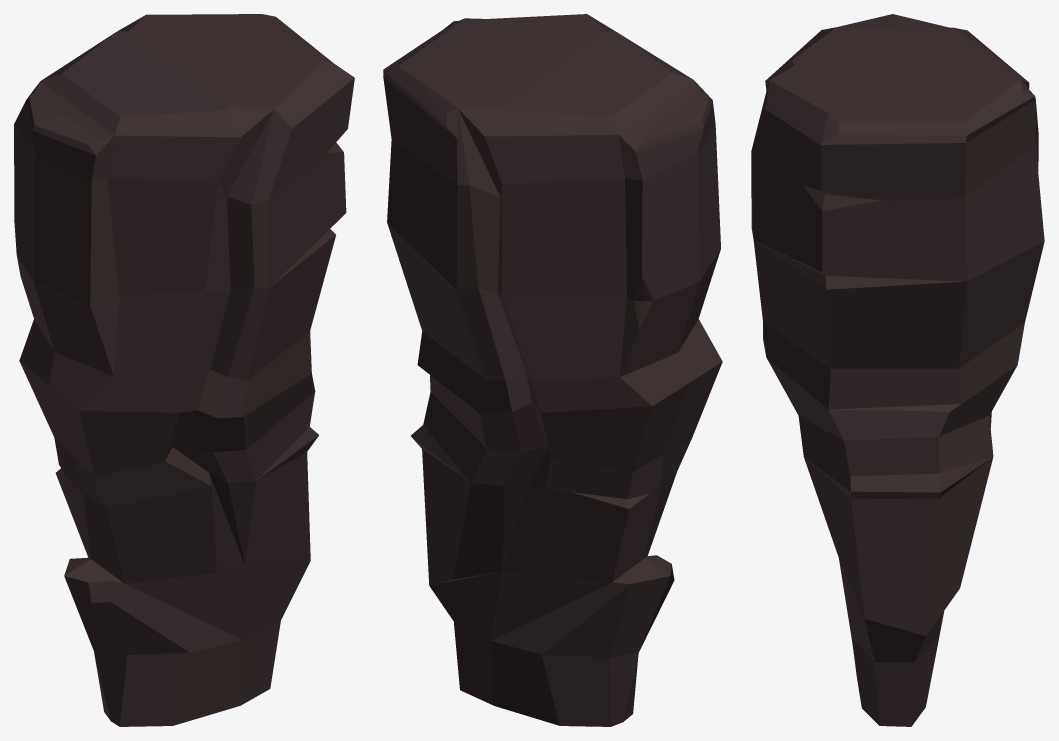
File: Rising_Pillar.glb
3 views of the same model, side by side, from view 1: azimuth 30°, elevation 25°; view 2: azimuth 150°, elevation 25°; view 3: azimuth 270°, elevation 25° (orthographic). The views are drawn at different scales.
Parts seen in each view (by area): view 1: RockPillar; view 2: RockPillar; view 3: RockPillar.
Boxes of the visible parts, x1=… form: RockPillar: x1=14, y1=14, x2=354, y2=726; RockPillar: x1=383, y1=14, x2=722, y2=726; RockPillar: x1=751, y1=14, x2=1044, y2=726.
Size of what is drawn, in the model's own units: 7.21 by 15.43 by 6.54.
1 material, 1 textured.
